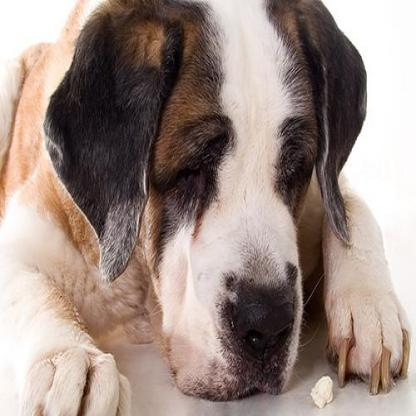Saint_Bernard: (0, 0, 411, 414)
